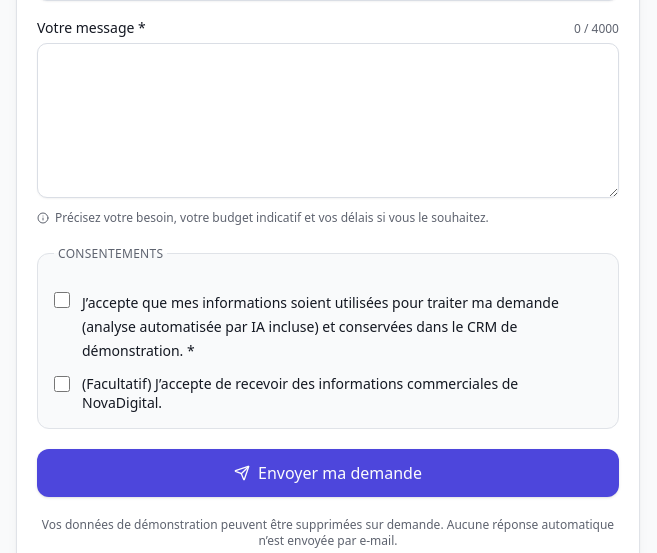
Formulaire /demo › affiche les erreurs de validation en français et n’appelle pas l’API
(page scrolled)
Step 1. Click the button "Envoyer ma demande" → (328, 473), box [37,449,619,497]
(page scrolled)
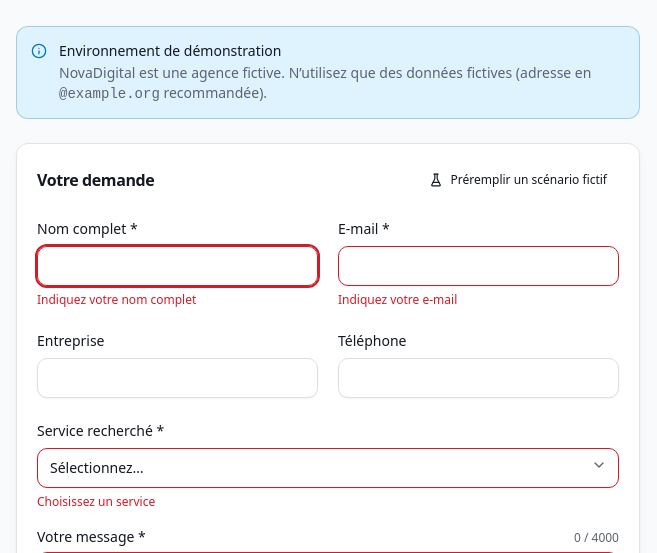
Expected: the text "Indiquez votre e-mail" is shown, [338,291,457,308]
